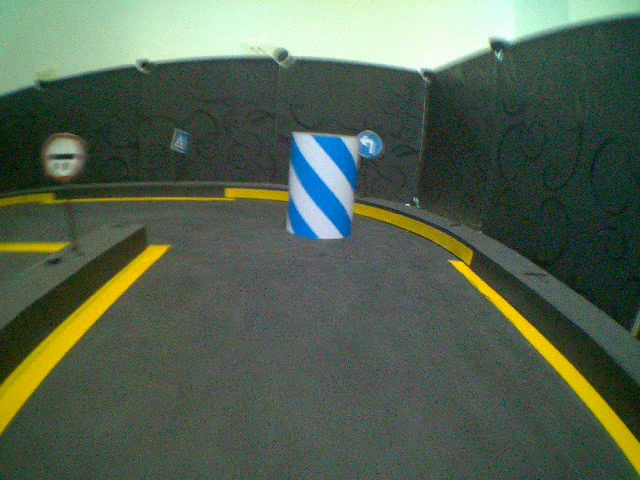bucket: (279, 126, 365, 245)
